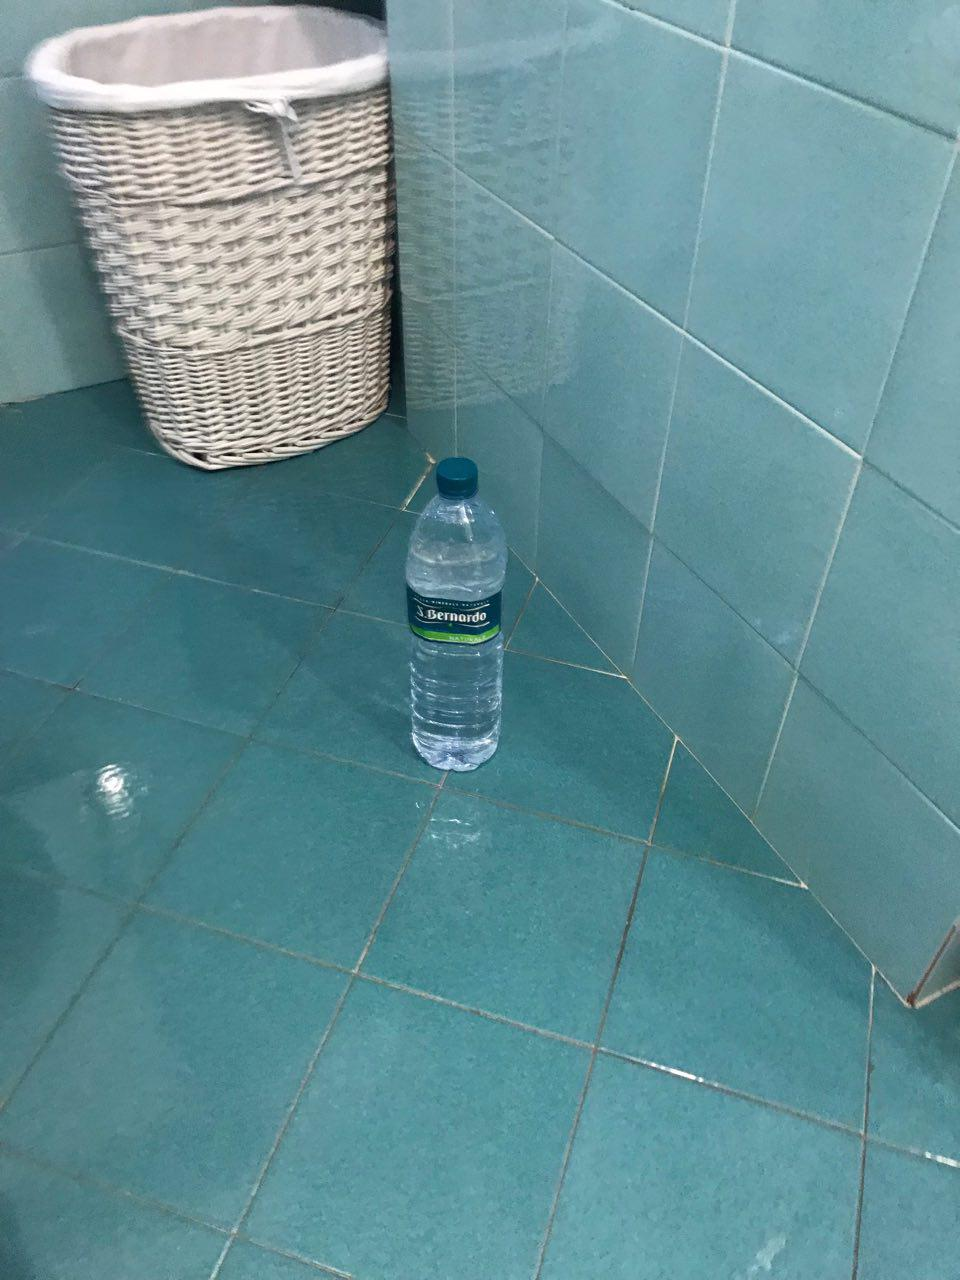san_bernardo: (404, 457, 508, 773)
